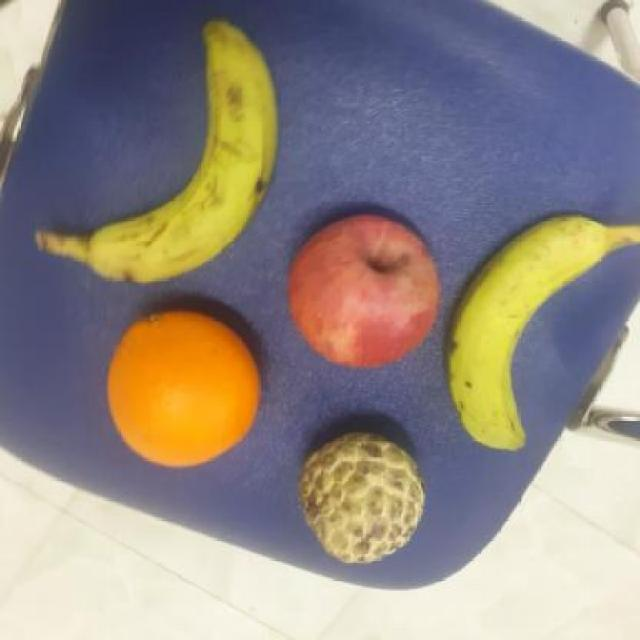apple: (287, 211, 445, 371)
banana: (88, 17, 281, 294), (445, 211, 626, 452)
oren: (103, 310, 260, 465)
sugar apple: (296, 429, 429, 566)
